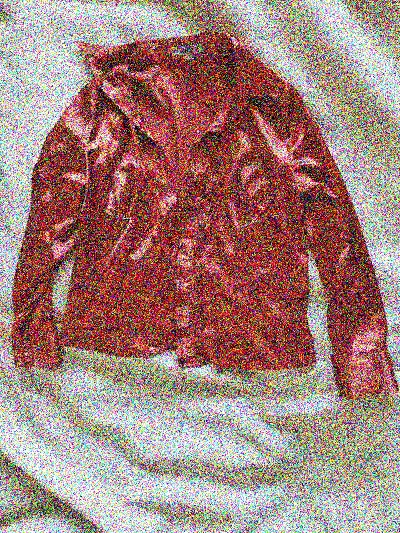Blazer: (10, 18, 388, 399)
